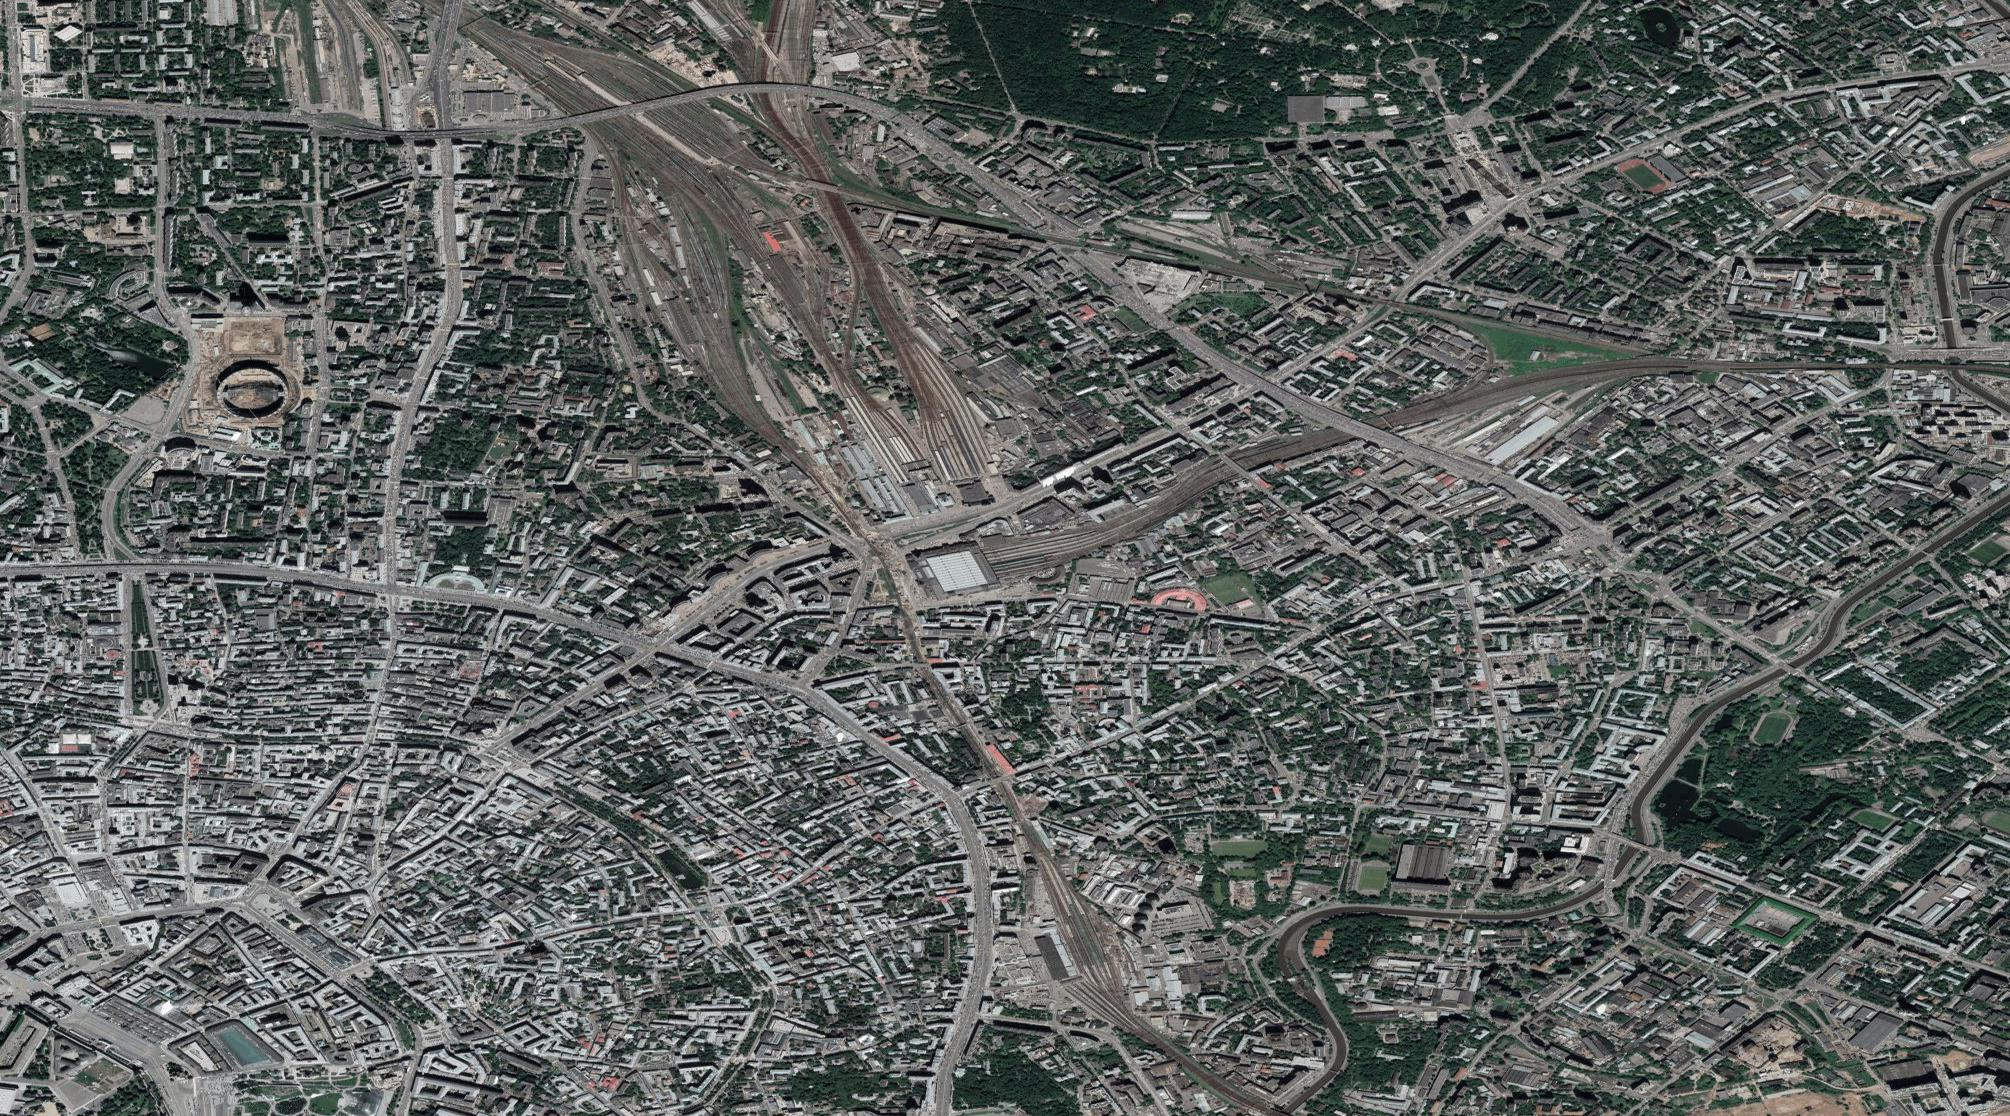bridge: (561, 78, 868, 126), (1333, 410, 1401, 444), (1213, 455, 1260, 482)
motorway: (1258, 381, 1601, 531), (1040, 213, 1253, 385), (881, 107, 1050, 230), (458, 584, 708, 667), (929, 860, 993, 1116), (708, 662, 874, 744), (874, 745, 986, 858), (187, 557, 458, 601), (214, 100, 441, 142), (442, 100, 654, 142), (653, 80, 894, 109), (1, 95, 212, 122), (1, 559, 194, 576)
train_station: (874, 526, 1039, 612)
